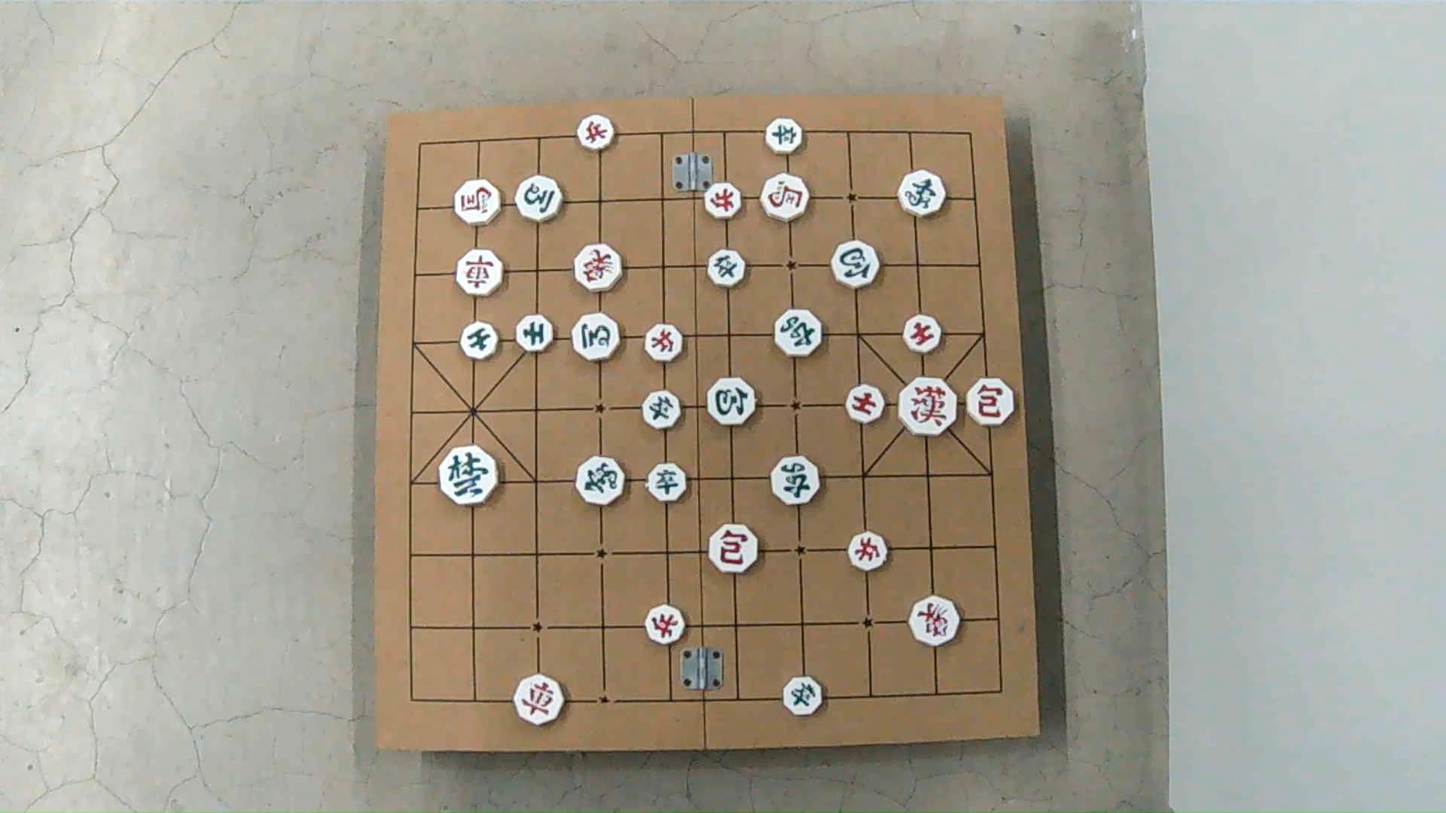cha_green: (770, 455, 820, 504), (775, 309, 823, 357)
cha_red: (516, 675, 566, 726), (456, 249, 504, 295)
jol_green: (647, 461, 687, 499), (784, 679, 824, 717), (642, 389, 680, 428), (709, 248, 747, 285), (768, 120, 806, 156)
jol_red: (848, 531, 888, 571), (645, 605, 684, 644), (643, 324, 682, 362), (576, 114, 615, 151), (705, 184, 742, 221)
ma_green: (572, 313, 620, 361), (514, 175, 562, 221)
ma_red: (761, 175, 810, 223), (455, 181, 502, 226)
po_green: (709, 379, 757, 427), (830, 241, 877, 288)
po_red: (709, 524, 758, 573), (970, 379, 1018, 427)
sa_green: (515, 314, 553, 352), (462, 324, 499, 362)
sa_red: (847, 385, 886, 425), (903, 315, 941, 354)
sang_green: (577, 457, 624, 505), (898, 171, 945, 216)
sang_red: (909, 595, 960, 646), (575, 243, 624, 291)
wang_green: (441, 446, 499, 507)
wang_red: (897, 377, 956, 436)
